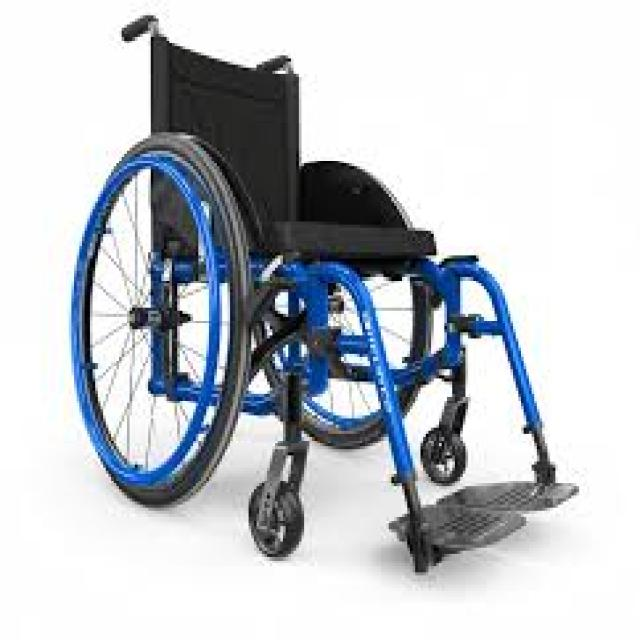wheelchairs: (71, 15, 590, 588)
